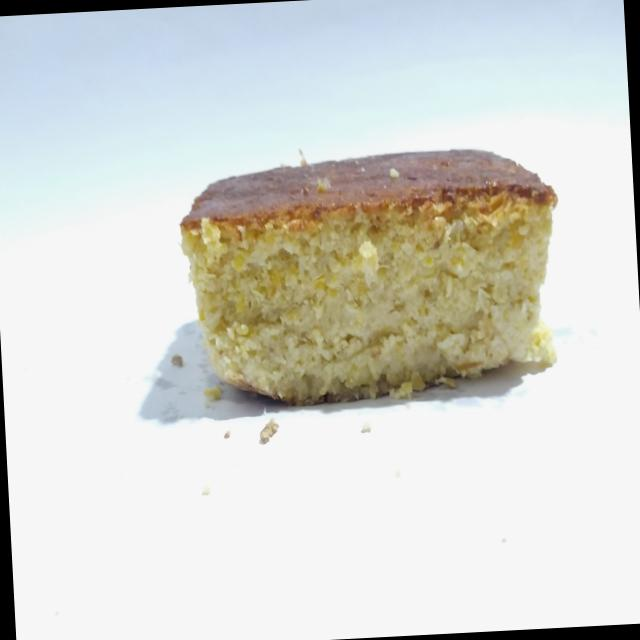Chipa_Guazu: (170, 135, 572, 417)
